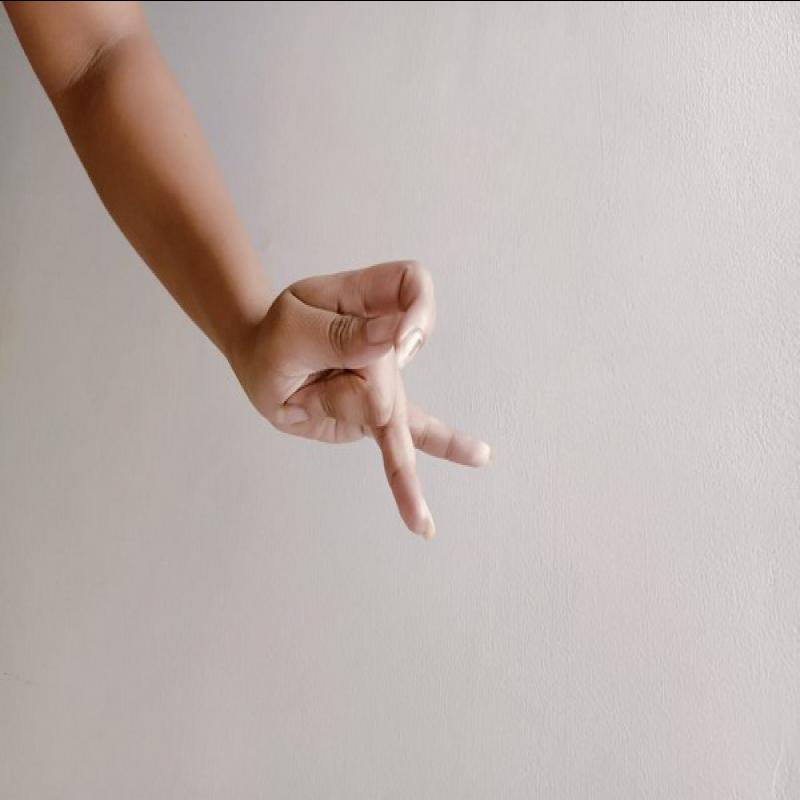Katakam: (234, 241, 498, 547)
